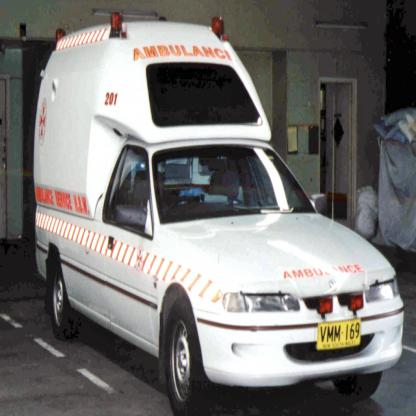Ambulance: (34, 11, 402, 414)
Car: (35, 12, 404, 416)
